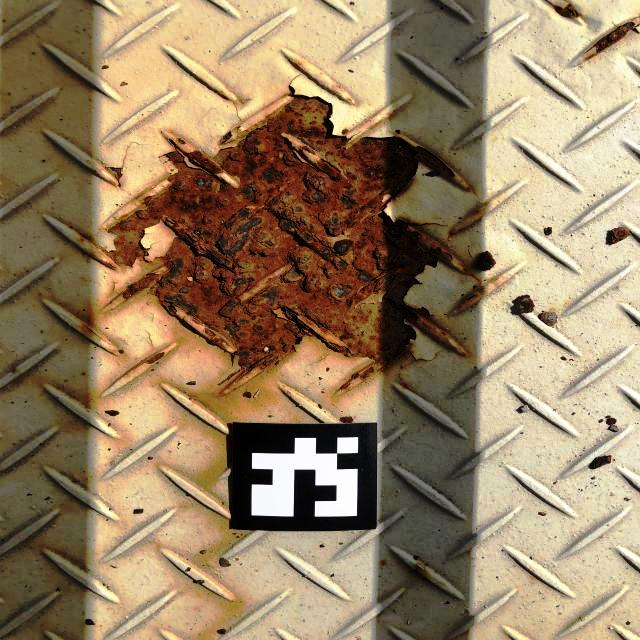Corrosion: (103, 95, 463, 394), (575, 15, 640, 63), (547, 0, 586, 24), (104, 165, 127, 189), (139, 351, 168, 368), (174, 137, 187, 147)
